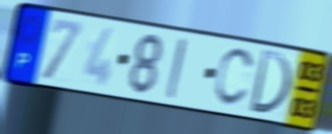4: (81, 26, 116, 90)
7: (43, 16, 85, 82)
8: (126, 31, 165, 97)
C: (212, 47, 257, 110)
D: (247, 47, 294, 118)
I: (164, 36, 188, 102)
